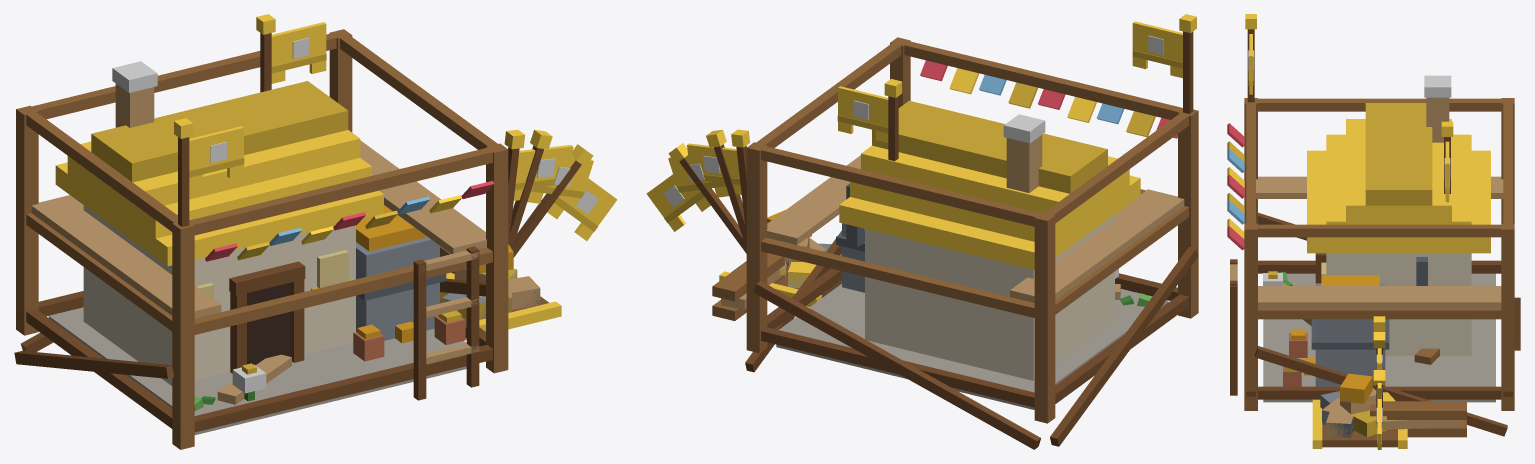
Rendered from bee-research.glb.
3 views of the same model, side by side, from view 1: azimuth 30°, elevation 25°; view 2: azimuth 150°, elevation 25°; view 3: azimuth 270°, elevation 25° (orthographic). The views are drawn at different scales.
Visible parts, largest first — view 1: scaffold-mesh, built-mesh, dismantle-75-mesh, dismantle-50-mesh, dismantle-25-mesh, banner, scaffold-banner, dismantle-25-banner, dismantle-75-banner, scaffold-flag-pole, dismantle-25-flag-pole, dismantle-50-flag-pole (+3 smaller); view 2: scaffold-mesh, dismantle-75-mesh, built-mesh, dismantle-50-mesh, dismantle-25-mesh, banner, scaffold-banner, dismantle-25-banner, dismantle-75-banner, dismantle-25-flag-pole, dismantle-50-banner, scaffold-flag-pole (+3 smaller); view 3: scaffold-mesh, built-mesh, dismantle-75-mesh, dismantle-50-mesh, dismantle-25-mesh, scaffold-flag-pole, flag-pole, banner, scaffold-banner.
Part boxes in pixels (x1,y1,x2,y2): scaffold-mesh: (14,29,508,449); built-mesh: (49,61,466,434); dismantle-75-mesh: (49,156,561,415); dismantle-50-mesh: (48,228,561,404); dismantle-25-mesh: (48,244,561,404); banner: (271,22,326,83); scaffold-banner: (189,126,244,187); dismantle-25-banner: (547,171,617,240); dismantle-75-banner: (513,145,573,200); scaffold-flag-pole: (174,118,193,226); dismantle-25-flag-pole: (512,144,593,257); dismantle-50-flag-pole: (509,129,552,248); scaffold-mesh: (712,37,1198,449); dismantle-75-mesh: (719,169,1168,409); built-mesh: (839,100,1150,384); dismantle-50-mesh: (719,227,1151,407); dismantle-25-mesh: (767,210,1142,409); banner: (837,86,888,142); scaffold-banner: (1132,21,1182,78); dismantle-25-banner: (646,168,710,231); dismantle-75-banner: (687,143,741,194); dismantle-25-flag-pole: (668,143,746,253); dismantle-50-banner: (668,152,728,202); scaffold-flag-pole: (1179,14,1196,113); scaffold-mesh: (1227,98,1520,437); built-mesh: (1283,75,1490,357); dismantle-75-mesh: (1263,135,1495,448); dismantle-50-mesh: (1278,266,1427,448); dismantle-25-mesh: (1285,285,1439,437); scaffold-flag-pole: (1245,14,1256,102); flag-pole: (1441,121,1453,193); banner: (1444,141,1450,202); scaffold-banner: (1248,34,1253,94).
Size of the model in its own units: 2.57 by 1.65 by 1.51.
